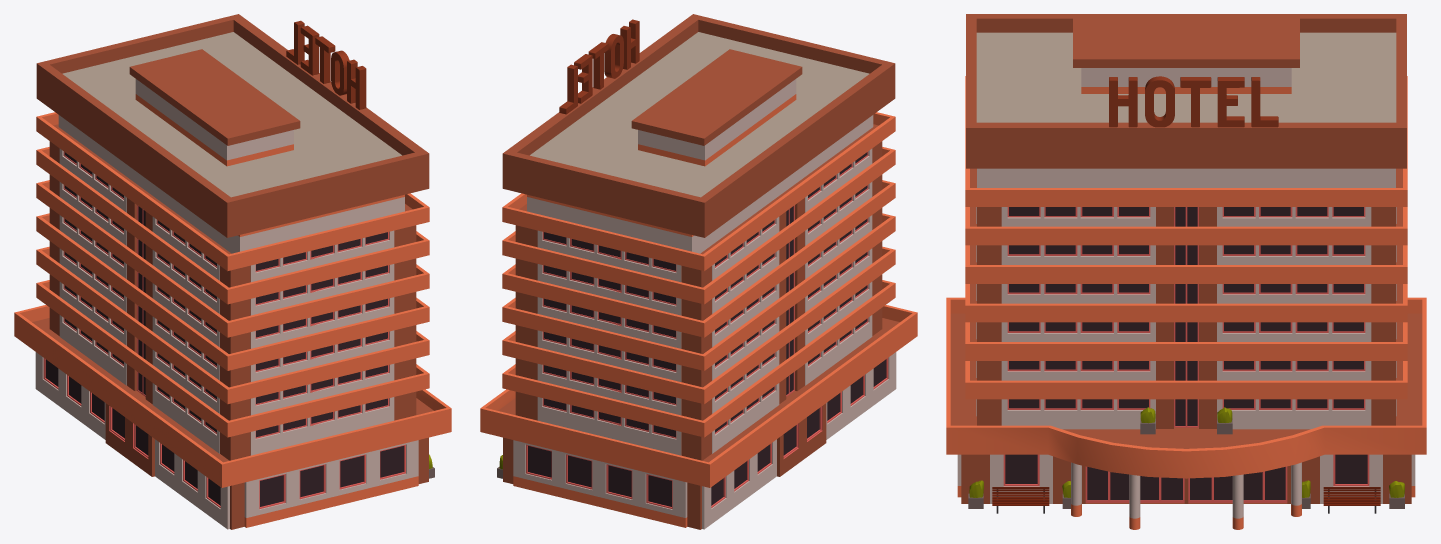
File: hotel.glb
3 renders of one model, left to right at view 1: azimuth 30°, elevation 25°; view 2: azimuth 150°, elevation 25°; view 3: azimuth 270°, elevation 25°, orthographic. The views are drawn at different scales.
Visible parts, largest first — view 1: PublicBuilding; view 2: PublicBuilding; view 3: PublicBuilding.
Boxes of the visible parts, x1,y1,x2,y2 form: PublicBuilding: (14, 14, 451, 529); PublicBuilding: (480, 14, 917, 529); PublicBuilding: (946, 14, 1426, 529).
Size of what is drawn, in the model's own units: 7.51 by 9.67 by 9.92.
Materials: 1 (1 with a texture image).
